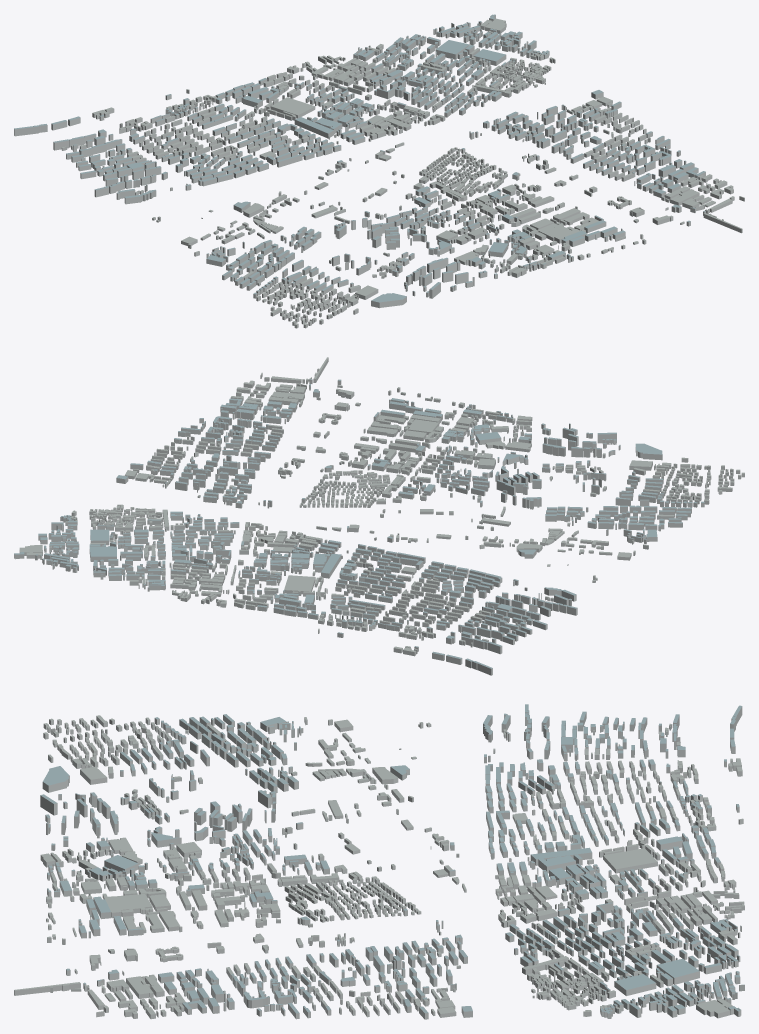
File: far.glb
3 views of the same model, one above another, from view 1: azimuth 30°, elevation 25°; view 2: azimuth 150°, elevation 25°; view 3: azimuth 270°, elevation 25° (orthographic). The views are drawn at different scales.
Size of the model in its own units: 2179 by 39.4 by 2196.
